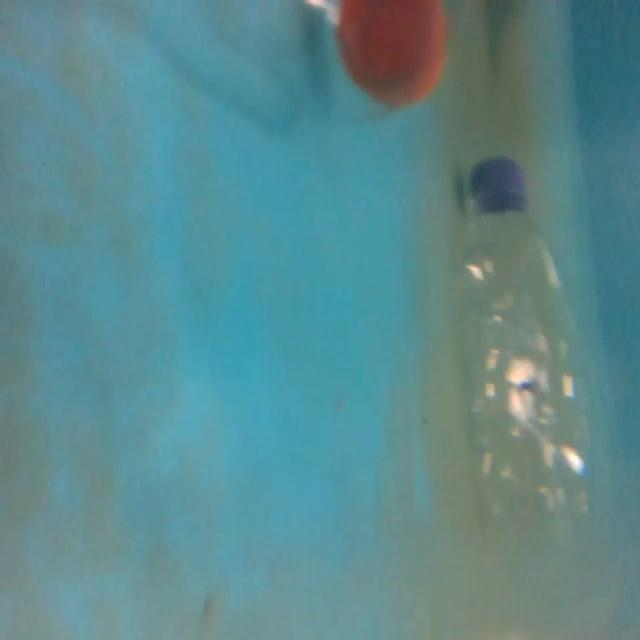plastic bottle: (444, 156, 603, 582)
